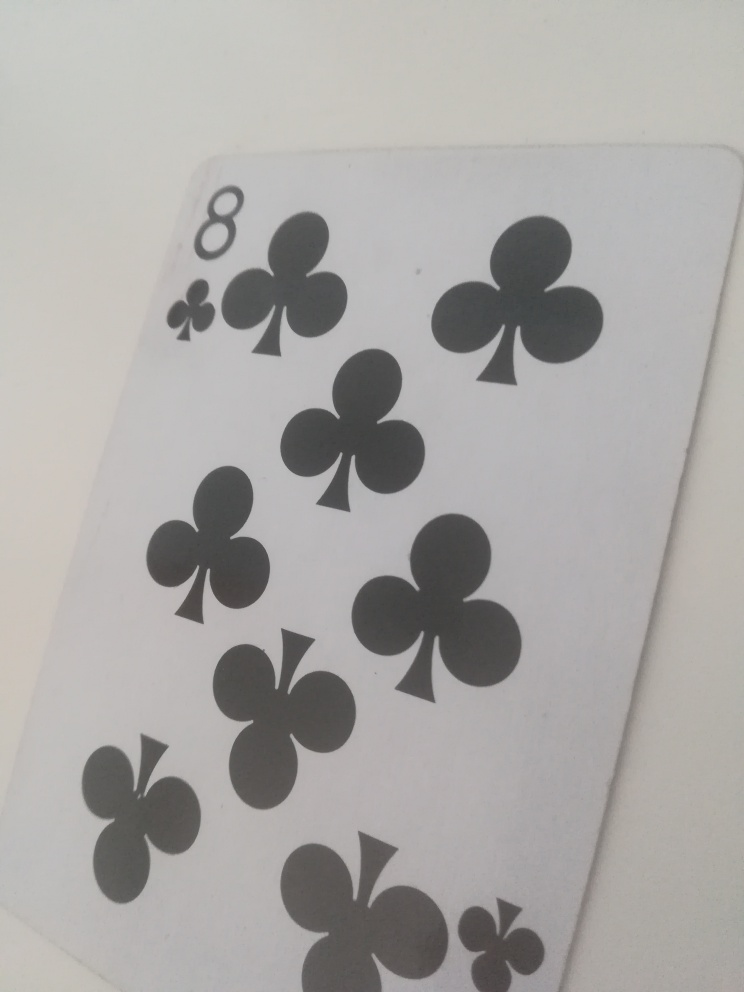8C: (157, 178, 251, 346)
